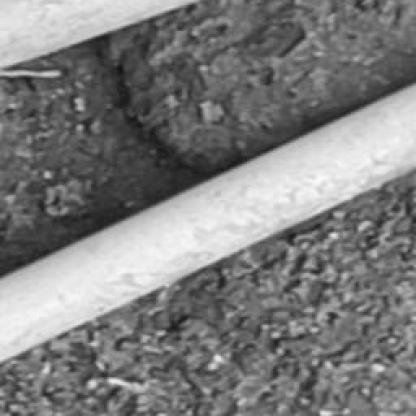PVC: (0, 83, 414, 363), (2, 3, 208, 67)
